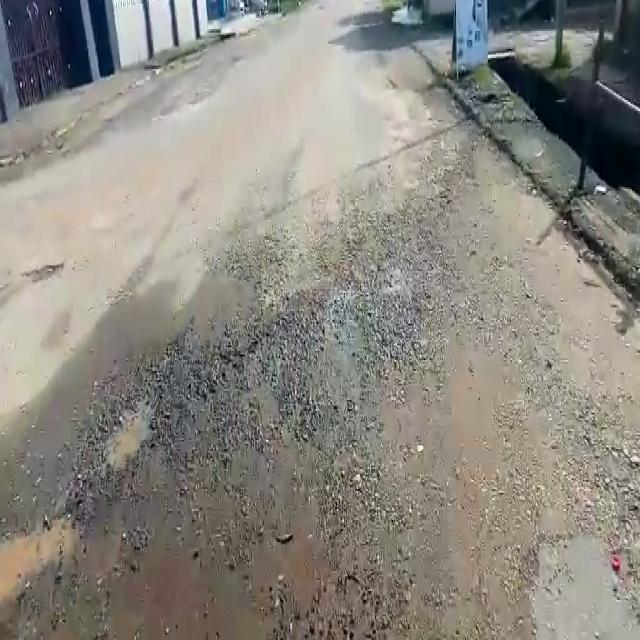Pothole: (104, 386, 152, 476)
